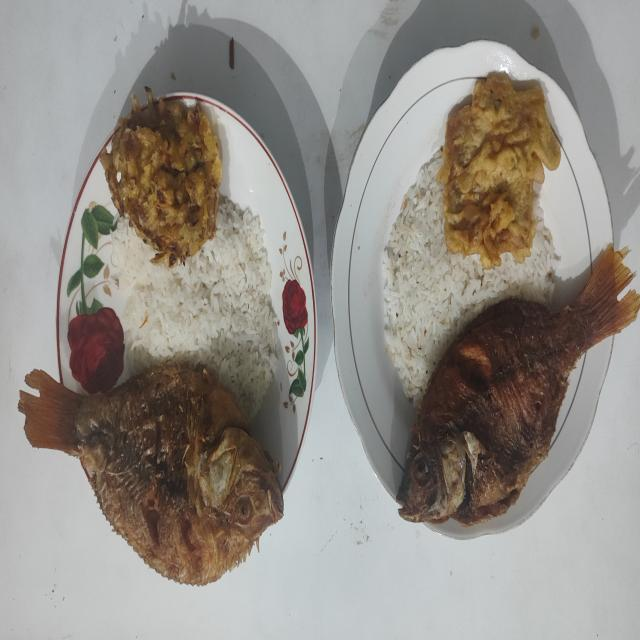ikan_mujair: (398, 248, 640, 525), (18, 363, 284, 584)
nasi_putih: (383, 152, 559, 409), (110, 196, 280, 416)
